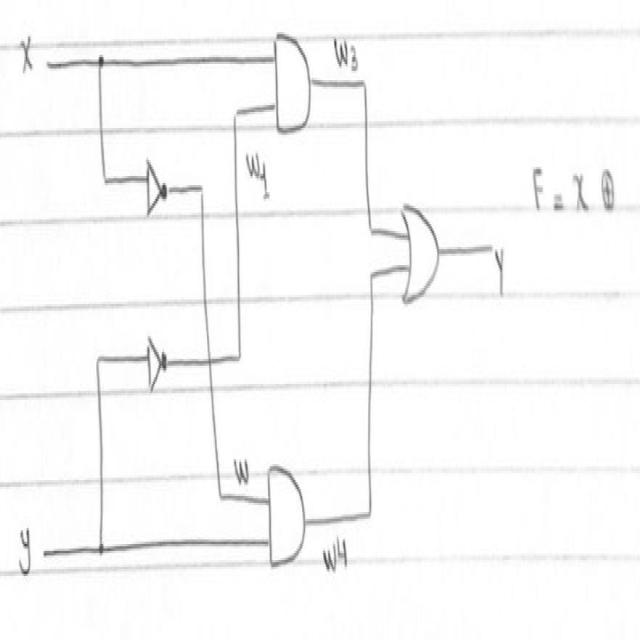AND: (262, 451, 311, 582), (270, 21, 316, 153)
NOT: (140, 318, 171, 404), (142, 142, 170, 228)
OR: (395, 174, 444, 328)
